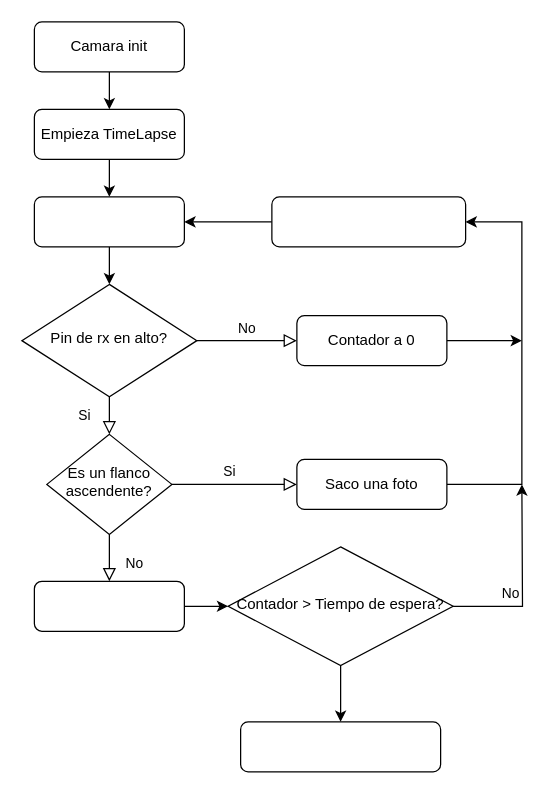
This 555x794 diagram has some shape labels left out. Here are the shapes that lost their labels. From the top down, the centre of each, then its label:
the point at 108,221: Main Loop
the point at 368,221: espero un milisegundo
the point at 108,605: Contador + 1
the point at 340,746: TimeLapse finalizado
